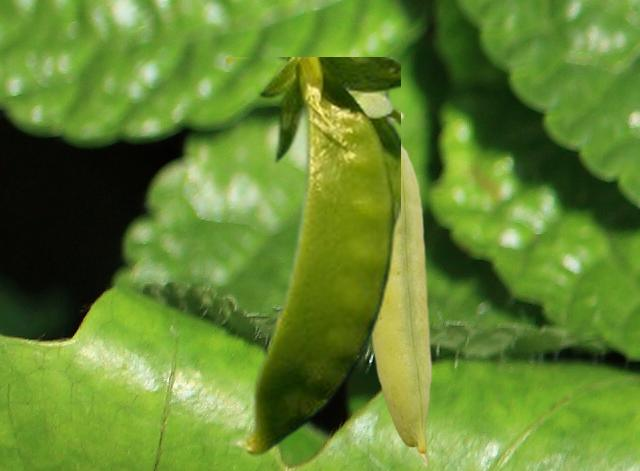pea: (226, 57, 399, 455), (371, 109, 432, 466)
